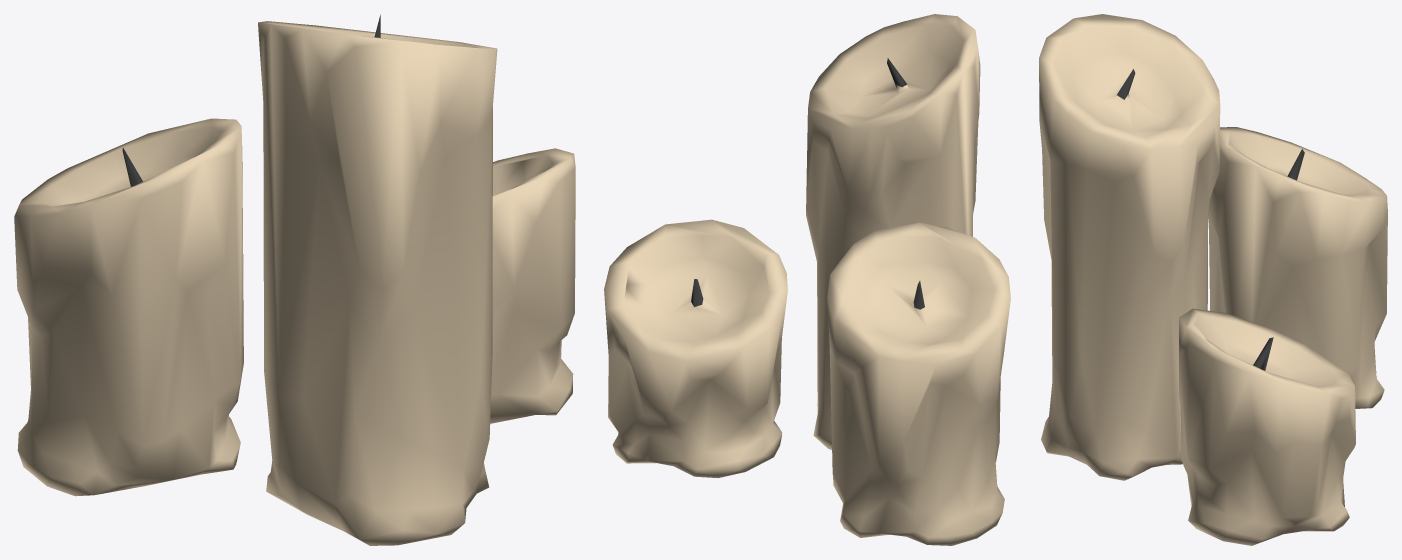
The model's file is 3 candles.fbx.
The picture shows the model from 3 angles, left to right: view 1: azimuth 30°, elevation 25°; view 2: azimuth 150°, elevation 25°; view 3: azimuth 270°, elevation 25°; orthographic projection. The views are drawn at different scales.
Visible parts, largest first — view 1: Candles 3.001; view 2: Candles 3.001; view 3: Candles 3.001.
Boxes of the visible parts, <box> form: Candles 3.001: <box>14,14,575,545</box>; Candles 3.001: <box>604,14,1010,545</box>; Candles 3.001: <box>1039,14,1387,545</box>.
Size of the model in its own units: 211 by 199 by 157.
